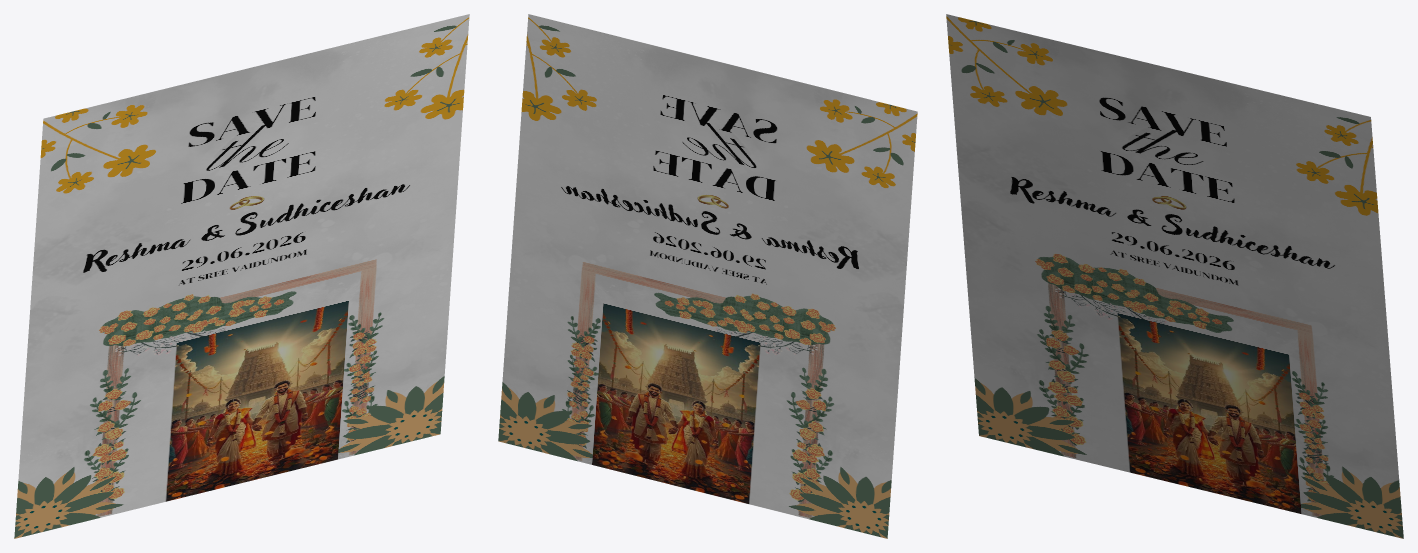
Rendered from wedding_scene.glb.
3 views of the same model, side by side, from view 1: azimuth 30°, elevation 25°; view 2: azimuth 150°, elevation 25°; view 3: azimuth 330°, elevation 25° (orthographic). The views are drawn at different scales.
Parts seen in each view (by area): view 1: Reshma & Sudhiceshan; view 2: Reshma & Sudhiceshan; view 3: Reshma & Sudhiceshan.
Boxes of the visible parts, x1,y1,x2,y2 form: Reshma & Sudhiceshan: (14, 14, 469, 538); Reshma & Sudhiceshan: (498, 14, 917, 538); Reshma & Sudhiceshan: (946, 14, 1403, 538).
Bounding box in the file's own units: 9 × 8.96 × 1.17.
Materials: 1 (1 with a texture image).
